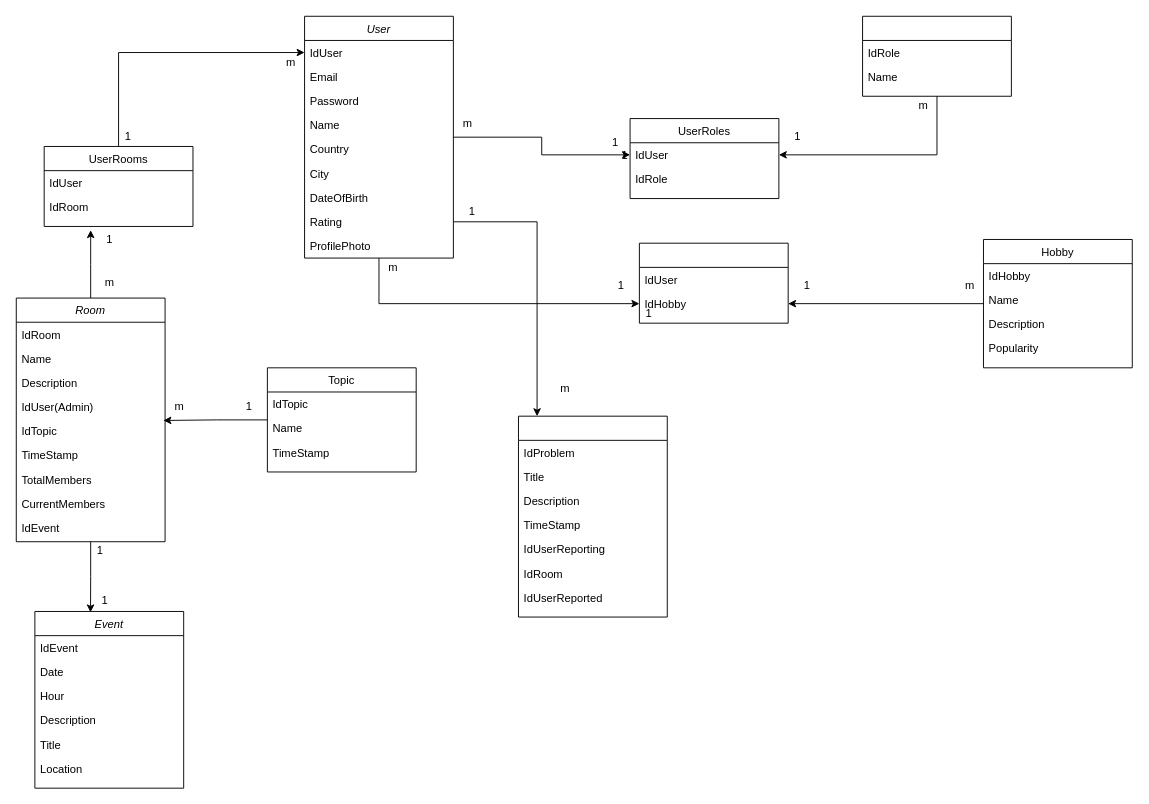
Image size: 1149x804. Some labels were removed from this diagram. The box of each missing label's shape, as (x1, y1, x2, y2) in pixels:
ProblemReported: (518, 415, 667, 617)
Roles: (862, 15, 1011, 96)
UserHobbies: (638, 242, 788, 323)
